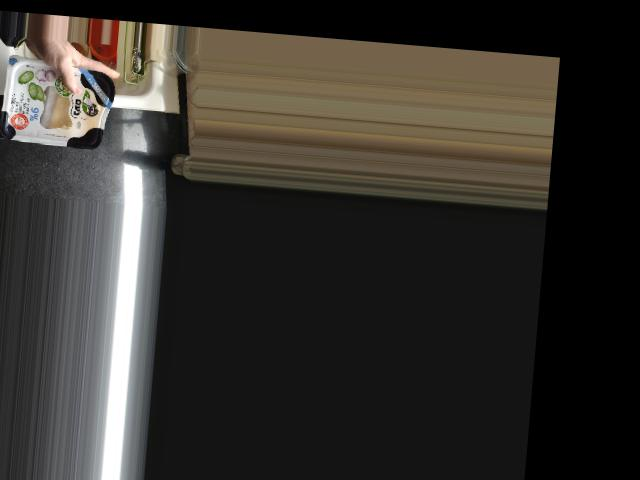cheese: (2, 55, 117, 150)
